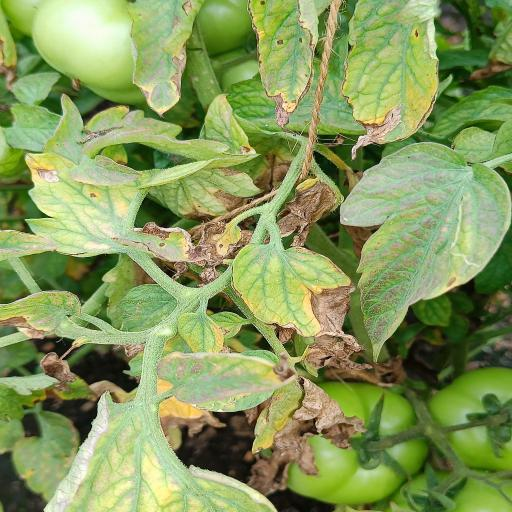disease_tomato: (338, 0, 446, 162), (230, 242, 360, 341), (244, 0, 328, 130)
